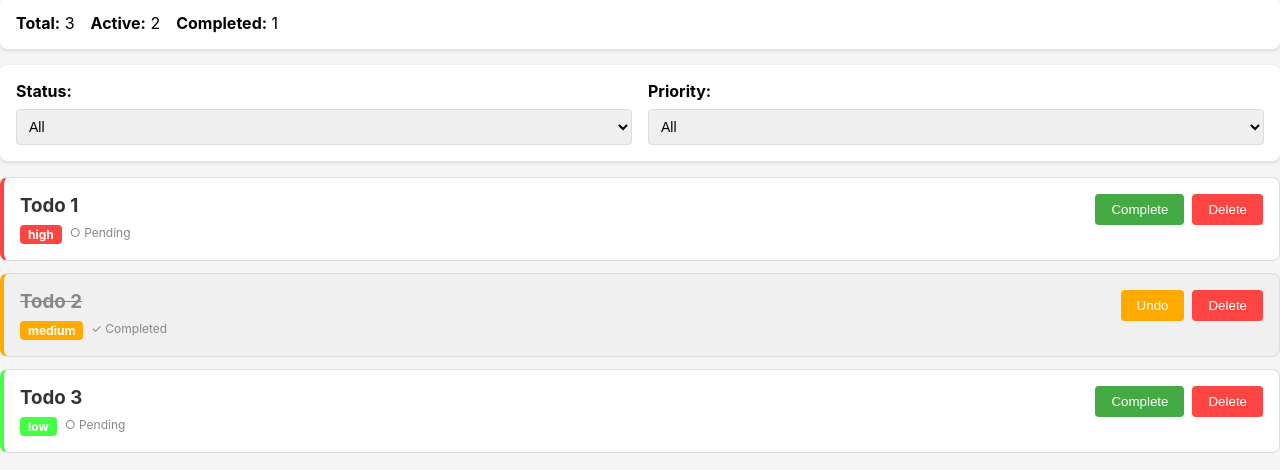
TodoList Component › filters todos by high priority
Select "High" in the dropdown with test id "priority-filter" at (956, 127), box [648,109,1264,145]
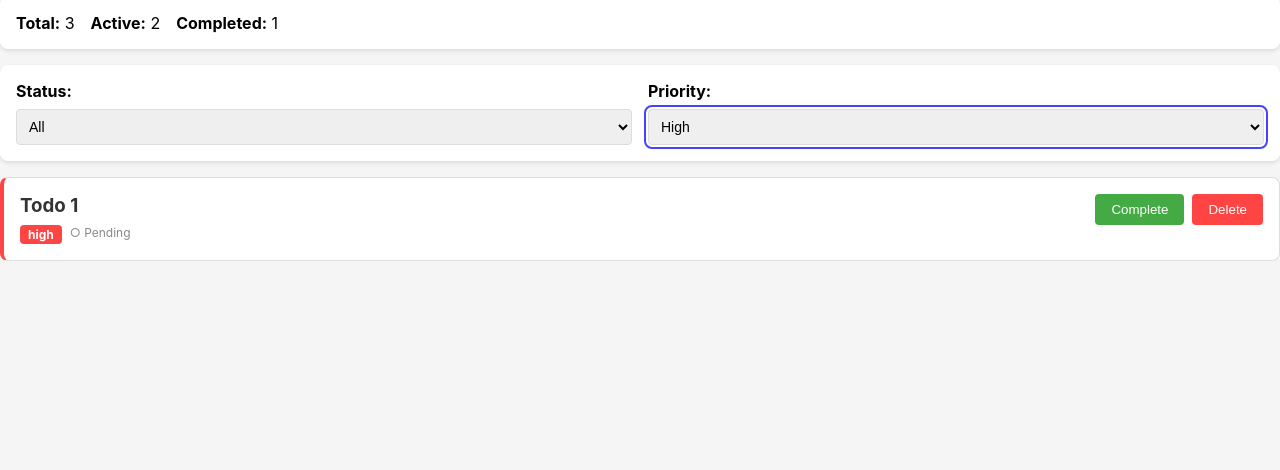
Expected: the heading "Todo 1" is shown, [20,194,78,217]
Expected: the heading "Todo 2" is gone
Expected: the heading "Todo 3" is gone
